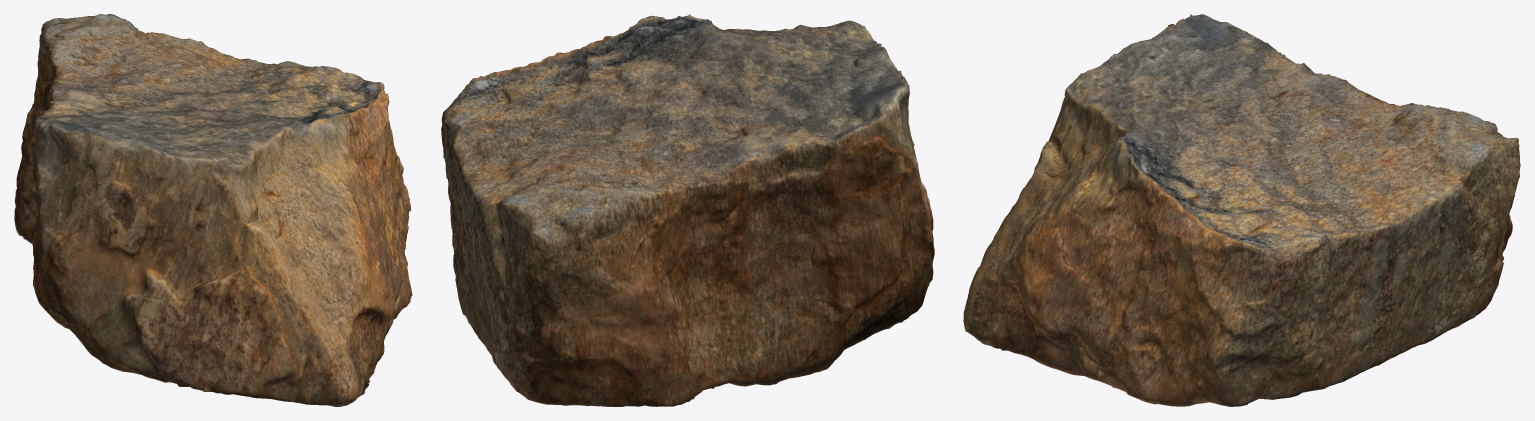
The model's file is namaqualand_boulder_03.glb.
The picture shows the model from 3 angles, left to right: view 1: azimuth 30°, elevation 25°; view 2: azimuth 150°, elevation 25°; view 3: azimuth 270°, elevation 25°; orthographic projection. The views are drawn at different scales.
Visible parts, largest first — view 1: boulder_03_LOD0; view 2: boulder_03_LOD0; view 3: boulder_03_LOD0.
Boxes of the visible parts, <box> form: boulder_03_LOD0: <box>14,14,412,406</box>; boulder_03_LOD0: <box>441,14,934,406</box>; boulder_03_LOD0: <box>963,14,1520,406</box>.
Size of the model in its own units: 1.57 by 0.9612 by 2.
1 material, 1 textured.
